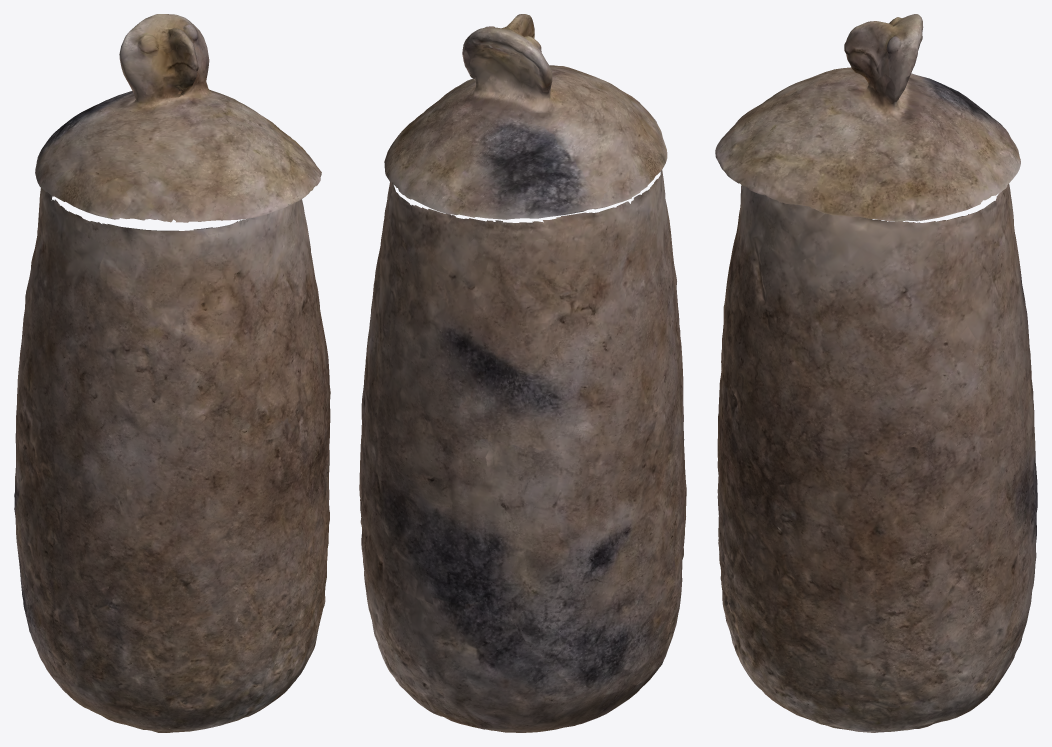
3 renders of one model, left to right at view 1: azimuth 30°, elevation 25°; view 2: azimuth 150°, elevation 25°; view 3: azimuth 270°, elevation 25°, orthographic. The views are drawn at different scales.
Visible parts, largest first — view 1: Mesh_0.024; view 2: Mesh_0.024; view 3: Mesh_0.024.
Part boxes in pixels (<box>): Mesh_0.024: <box>14,14,330,732</box>; Mesh_0.024: <box>359,14,686,732</box>; Mesh_0.024: <box>715,14,1037,732</box>.
Size of the model in its own units: 0.1629 by 0.3804 by 0.1621.
1 material, 1 textured.
